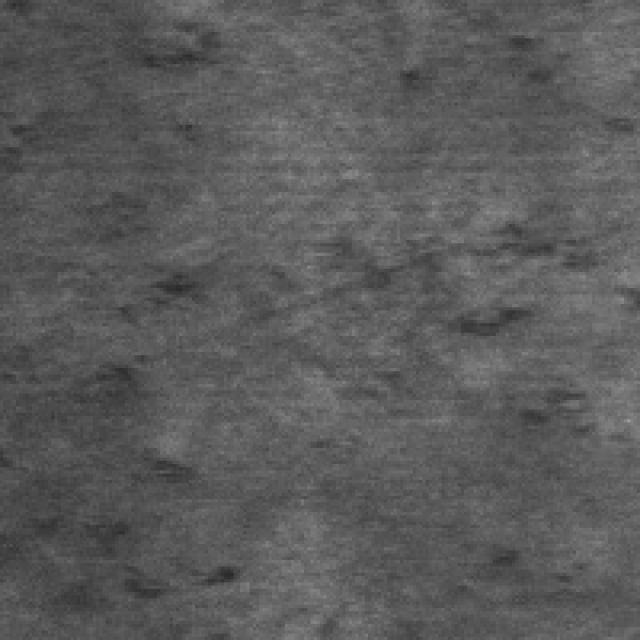rolled-in_scale: (355, 186, 608, 374)
